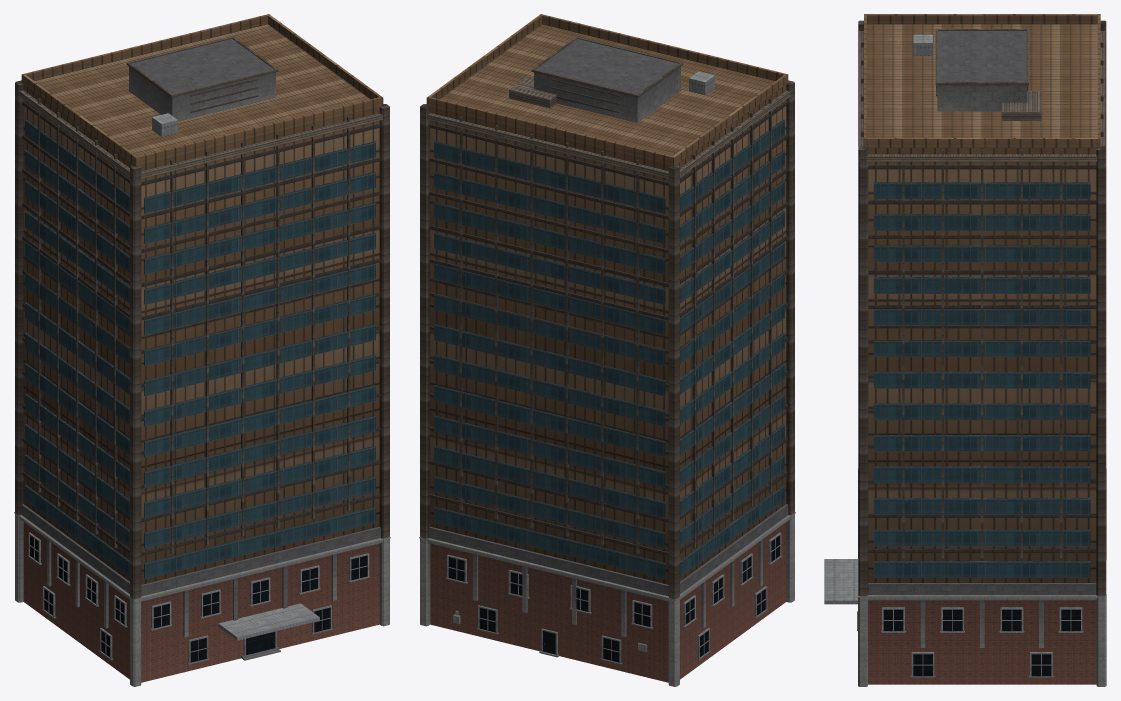
File: atwater-landing_lod0.gltf
3 renders of one model, left to right at view 1: azimuth 30°, elevation 25°; view 2: azimuth 150°, elevation 25°; view 3: azimuth 270°, elevation 25°, orthographic. The views are drawn at different scales.
Parts seen in each view (by area): view 1: atwater-landing_upper, atwater-landing_fen_07-glass-curtain-blue_0, atwater-landing__v4_metal_detail, atwater-landing_base, atwater-landing__v4_stone_detail, atwater-landing_fen_07-glass-curtain-blue_2_t, atwater-landing_fen_14-steel-panel_1, atwater-landing__cornice, atwater-landing__parapet_front, atwater-landing__parapet_back, atwater-landing__canopy, atwater-landing__parapet_left (+1 smaller); view 2: atwater-landing_upper, atwater-landing_fen_07-glass-curtain-blue_0, atwater-landing__v4_metal_detail, atwater-landing_base, atwater-landing__v4_stone_detail, atwater-landing_fen_14-steel-panel_1, atwater-landing_fen_07-glass-curtain-blue_2_t, atwater-landing__cornice, atwater-landing__parapet_back, atwater-landing__parapet_front, atwater-landing__parapet_left, atwater-landing__parapet_right (+1 smaller); view 3: atwater-landing_upper, atwater-landing_fen_07-glass-curtain-blue_0, atwater-landing__v4_metal_detail, atwater-landing_base, atwater-landing__v4_stone_detail, atwater-landing__cornice, atwater-landing_fen_07-glass-curtain-blue_2_t, atwater-landing__parapet_left, atwater-landing__parapet_right, atwater-landing_fen_14-steel-panel_1, atwater-landing__canopy, atwater-landing__terrace (+2 smaller).
Part boxes in pixels (x1,y1,x2,y2): atwater-landing_upper: (23,24,379,584); atwater-landing_fen_07-glass-curtain-blue_0: (25,119,375,579); atwater-landing__v4_metal_detail: (15,36,389,599); atwater-landing_base: (23,522,379,682); atwater-landing__v4_stone_detail: (14,39,390,686); atwater-landing_fen_07-glass-curtain-blue_2_t: (30,535,367,662); atwater-landing_fen_14-steel-panel_1: (27,532,369,664); atwater-landing__cornice: (19,90,389,180); atwater-landing__parapet_front: (134,96,383,166); atwater-landing__parapet_back: (21,14,269,83); atwater-landing__canopy: (218,603,319,640); atwater-landing__parapet_left: (23,75,136,165); atwater-landing_upper: (430,24,786,584); atwater-landing_fen_07-glass-curtain-blue_0: (434,119,784,579); atwater-landing__v4_metal_detail: (420,36,794,599); atwater-landing_base: (430,522,786,682); atwater-landing__v4_stone_detail: (419,39,795,686); atwater-landing_fen_14-steel-panel_1: (446,532,782,664); atwater-landing_fen_07-glass-curtain-blue_2_t: (448,535,779,662); atwater-landing__cornice: (420,90,790,180); atwater-landing__parapet_back: (426,96,675,166); atwater-landing__parapet_front: (540,14,788,83); atwater-landing__parapet_left: (673,75,786,165); atwater-landing__parapet_right: (428,15,541,99); atwater-landing_upper: (867,24,1097,582); atwater-landing_fen_07-glass-curtain-blue_0: (873,182,1090,577); atwater-landing__v4_metal_detail: (858,20,1106,596); atwater-landing_base: (868,600,1096,684); atwater-landing__v4_stone_detail: (858,31,1106,686); atwater-landing__cornice: (859,30,1105,161); atwater-landing_fen_07-glass-curtain-blue_2_t: (883,609,1080,676); atwater-landing__parapet_left: (867,14,1097,24); atwater-landing__parapet_right: (867,138,1097,147); atwater-landing_fen_14-steel-panel_1: (881,607,1083,677); atwater-landing__canopy: (824,559,858,604); atwater-landing__terrace: (1002,91,1041,120).
Size of the model in its own units: 31.19 by 63.3 by 28.59.
